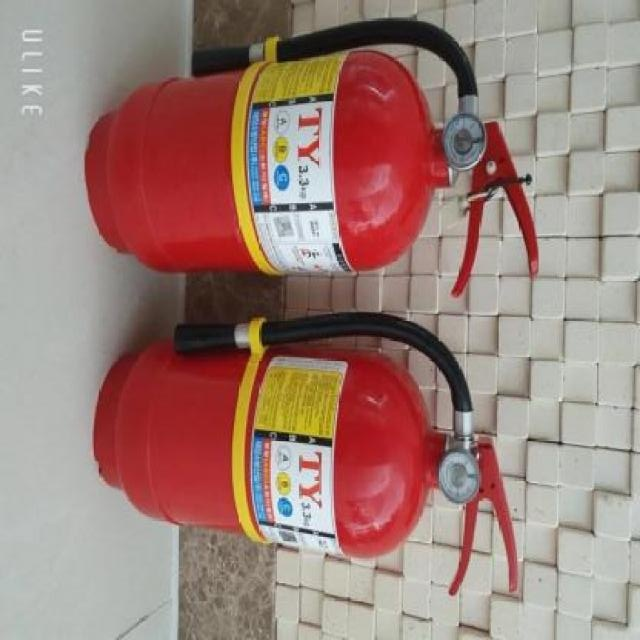fire extinguisher: (83, 17, 540, 300), (93, 311, 519, 594)
